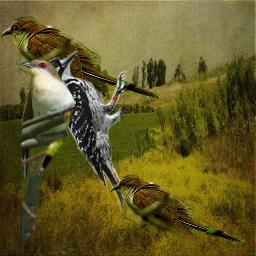Cuckoo: (0, 16, 163, 101), (15, 58, 77, 241), (110, 174, 246, 245)
Woodpecker: (36, 51, 130, 219)
